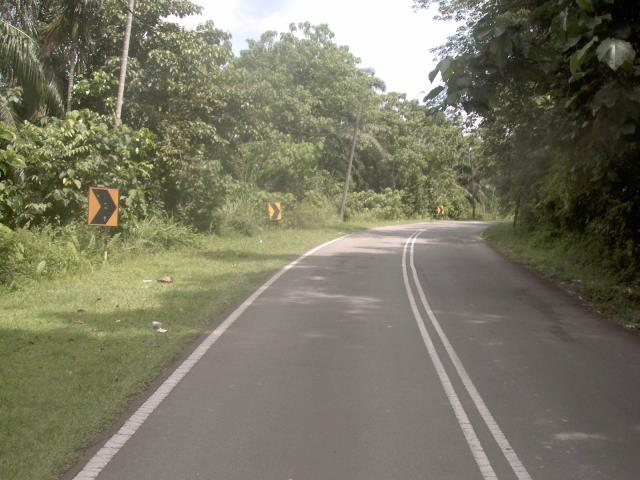traffic_sign: (77, 178, 127, 234)
